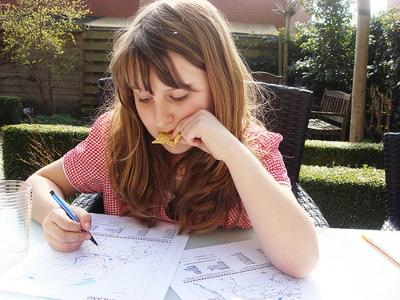person: (17, 3, 319, 277)
